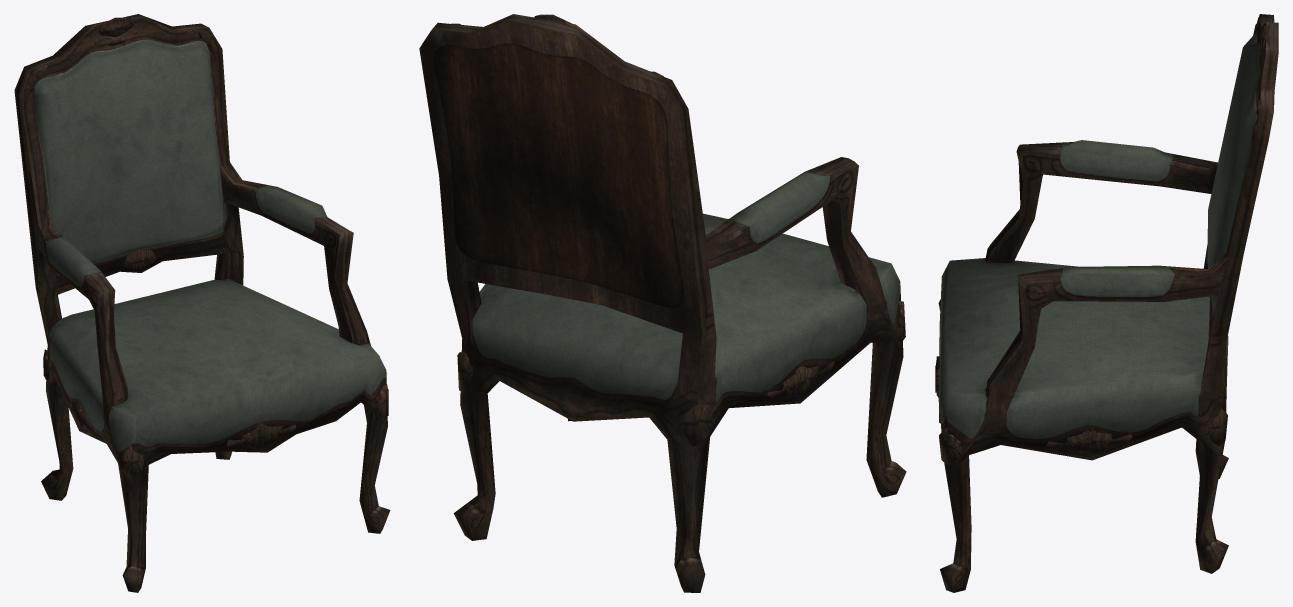
Rendered from GreenChairLOD1.fbx.
3 renders of one model, left to right at view 1: azimuth 30°, elevation 25°; view 2: azimuth 150°, elevation 25°; view 3: azimuth 270°, elevation 25°, orthographic. The views are drawn at different scales.
Visible parts, largest first — view 1: GreenChair_01; view 2: GreenChair_01; view 3: GreenChair_01.
Boxes of the visible parts, bbox=[...] form: GreenChair_01: bbox=[14, 14, 390, 592]; GreenChair_01: bbox=[419, 14, 906, 592]; GreenChair_01: bbox=[935, 14, 1278, 592].
Bounding box in the file's own units: 67.27 × 106 × 66.45.
